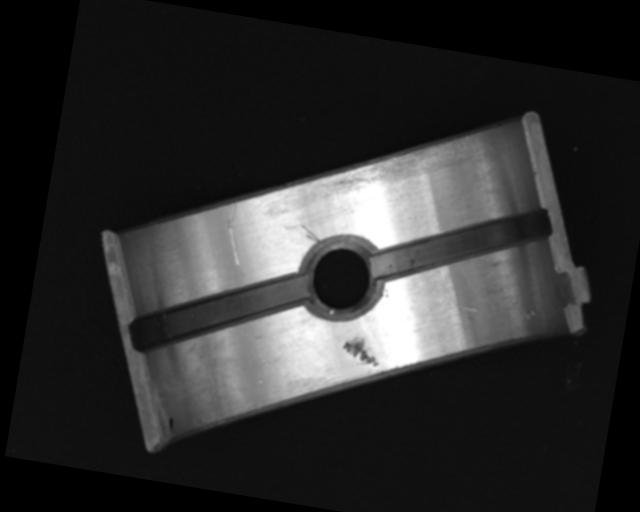blot: (167, 415, 176, 433)
bruise: (340, 333, 384, 367), (456, 301, 480, 314)
gap: (128, 248, 309, 373), (371, 184, 555, 302)
hole: (294, 230, 385, 327)
nick: (219, 198, 259, 277), (298, 224, 323, 243)
scratch: (299, 108, 474, 222)
